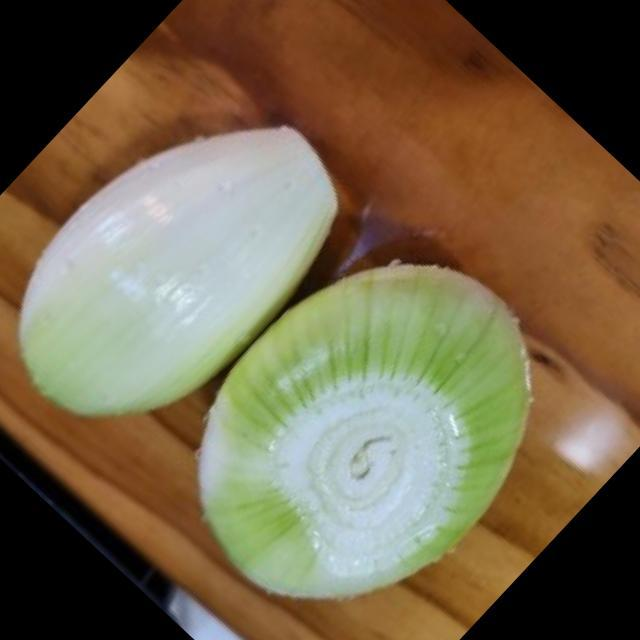Onion: (196, 269, 539, 588), (20, 128, 338, 415)
